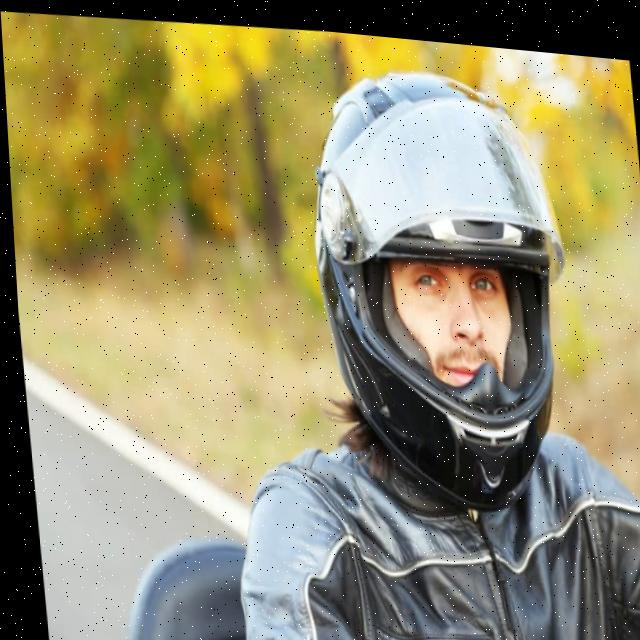helmet: (290, 37, 591, 528)
